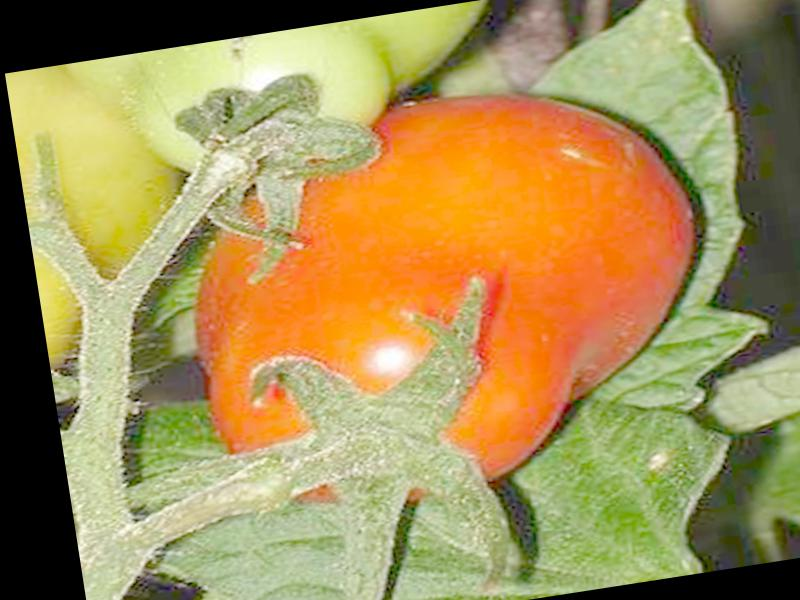Tomato: (171, 64, 730, 527)
